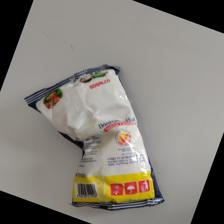Salt: (22, 63, 166, 214)
